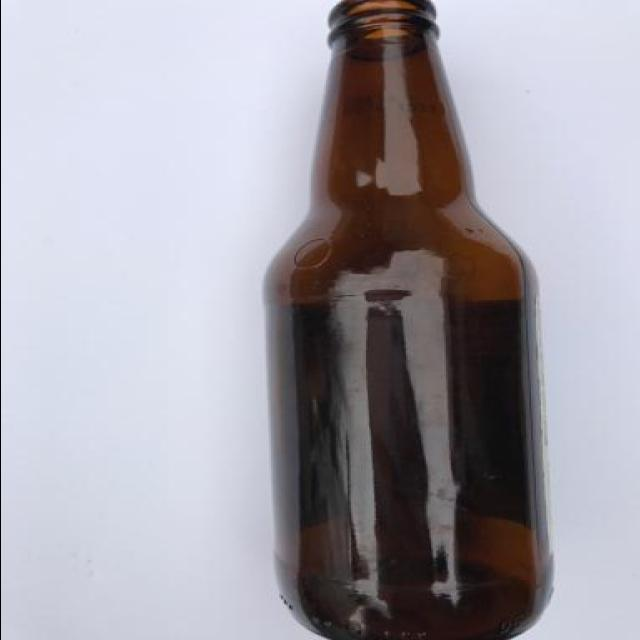litter: (260, 2, 555, 638)
